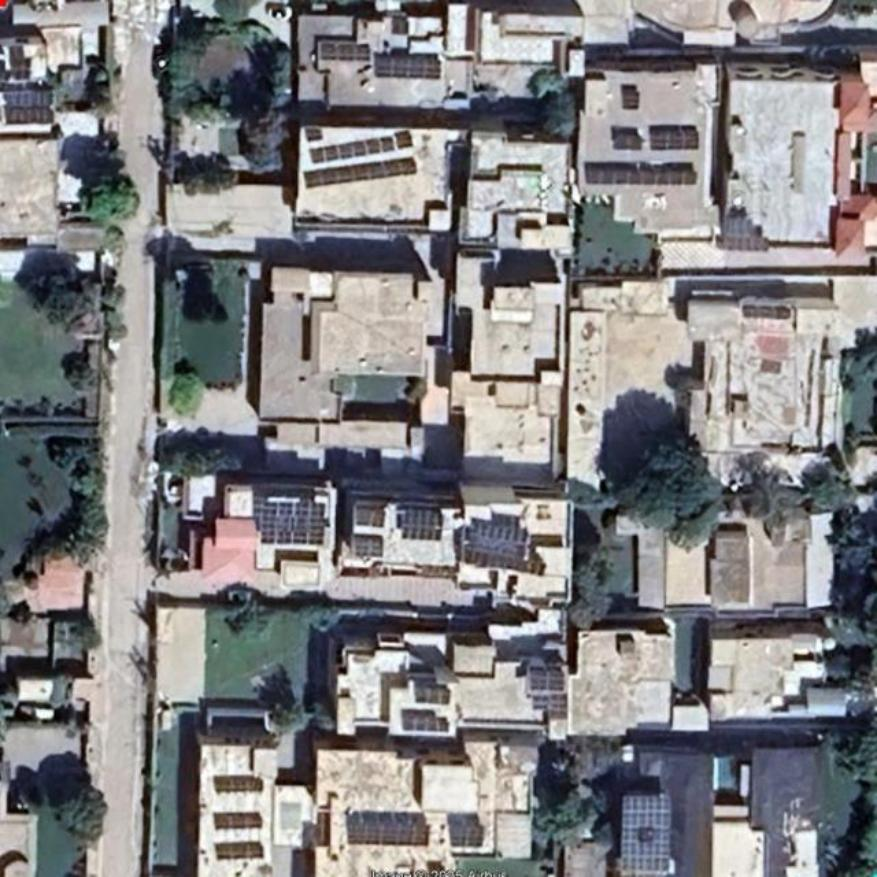Solarpanel: (617, 797, 670, 872), (302, 155, 417, 189), (309, 130, 412, 161), (261, 502, 326, 546), (465, 520, 528, 558), (586, 167, 695, 184), (349, 825, 431, 845), (374, 55, 440, 77), (401, 507, 442, 540), (530, 668, 565, 692), (320, 44, 368, 60), (651, 134, 699, 150), (451, 824, 485, 846), (216, 843, 261, 859), (5, 92, 50, 106), (418, 687, 452, 705), (216, 815, 263, 828), (404, 719, 448, 731), (216, 780, 264, 790), (615, 134, 642, 148), (621, 92, 638, 108)
